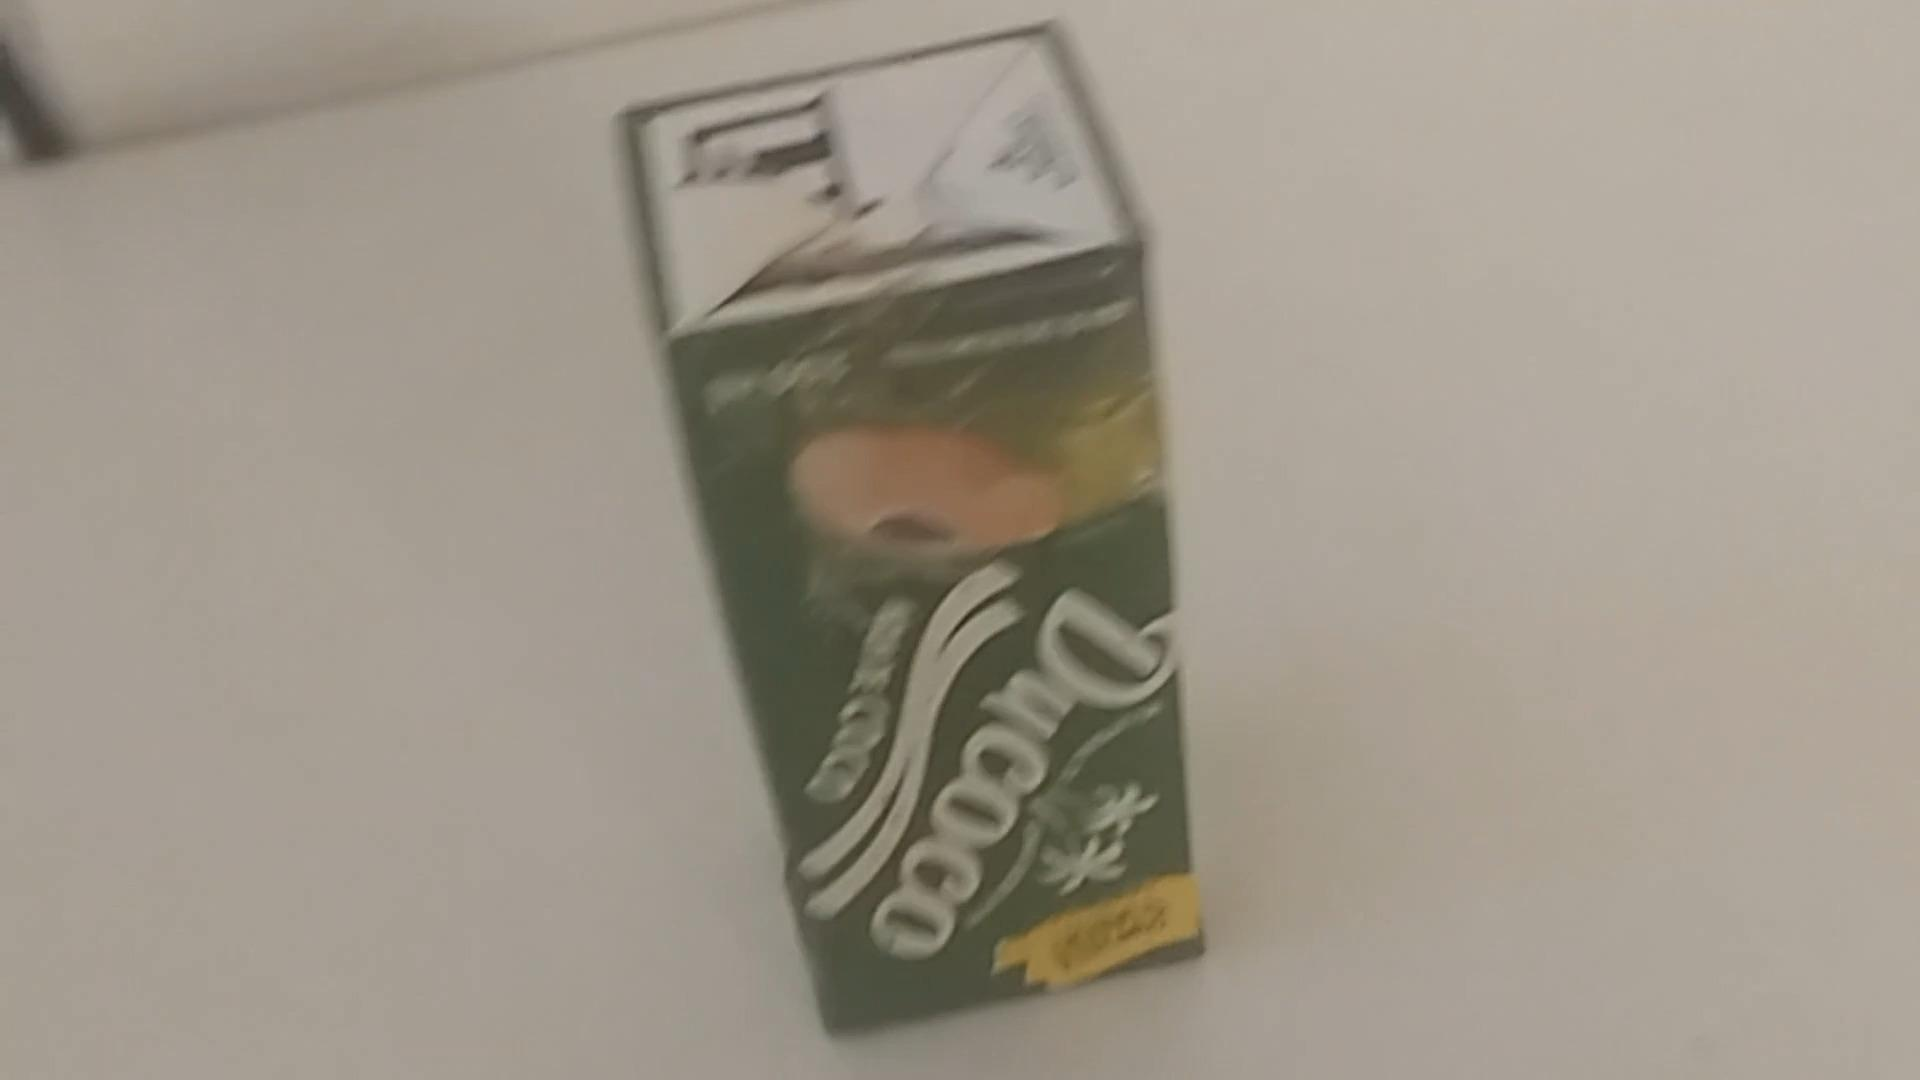coco: (615, 16, 1197, 1039)
